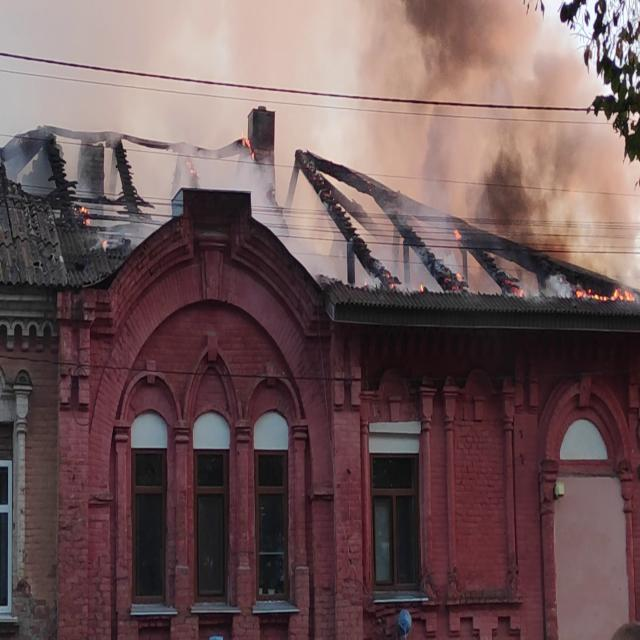fire: (572, 240, 640, 308)
smoke: (411, 0, 539, 247)
